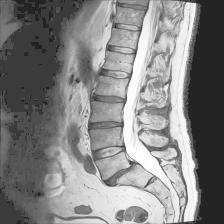disc: (96, 65, 131, 82), (112, 20, 142, 39), (90, 92, 128, 107), (105, 42, 136, 57), (117, 1, 147, 15)
hdisc: (102, 158, 139, 190), (90, 143, 128, 161), (86, 118, 126, 132)
